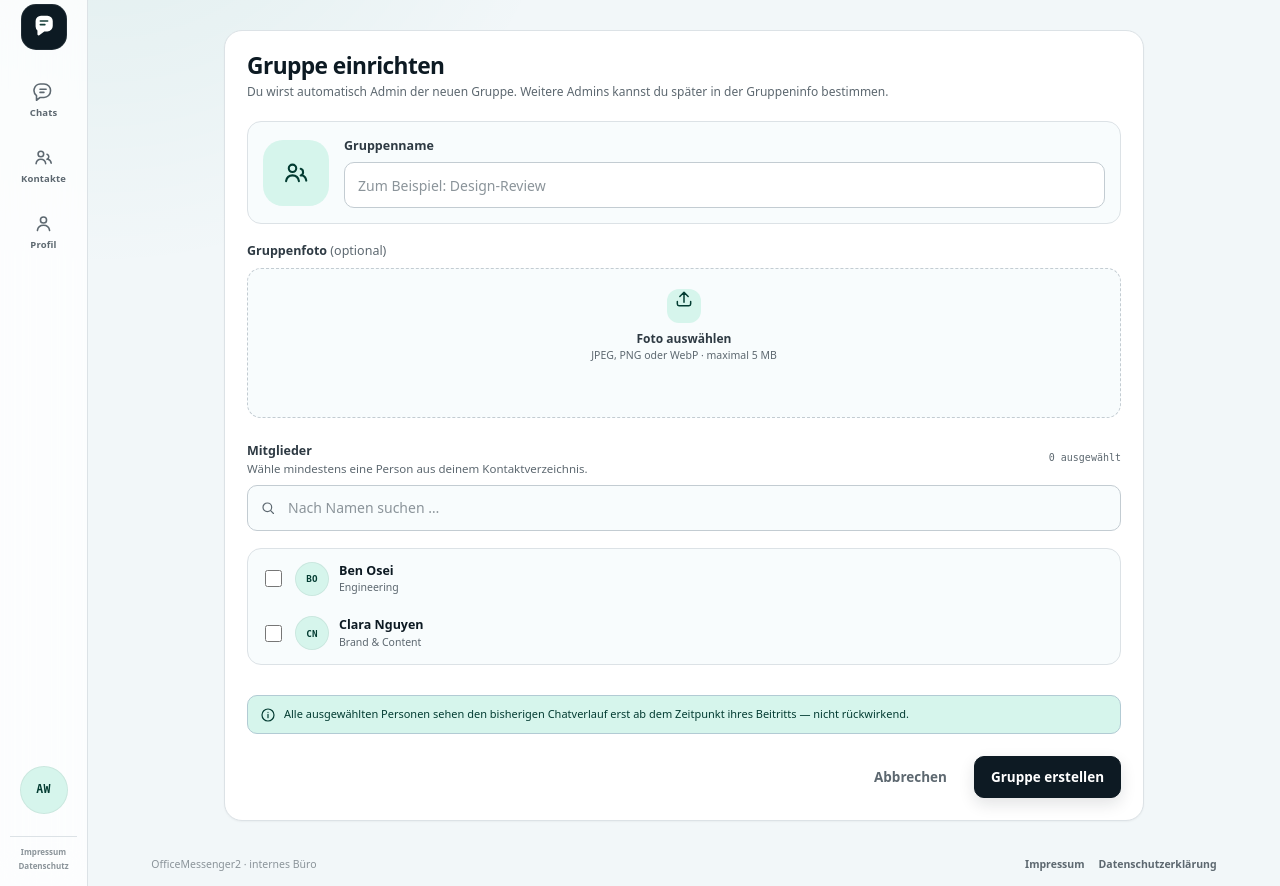
Test: CreateGroupPage › shows validation messages after an empty submit
(page scrolled)
Check: the text "Ben Osei" is shown, box [339,562,394,579]
Click the button "Gruppe erstellen": (1047, 777) [974,756,1121,798]
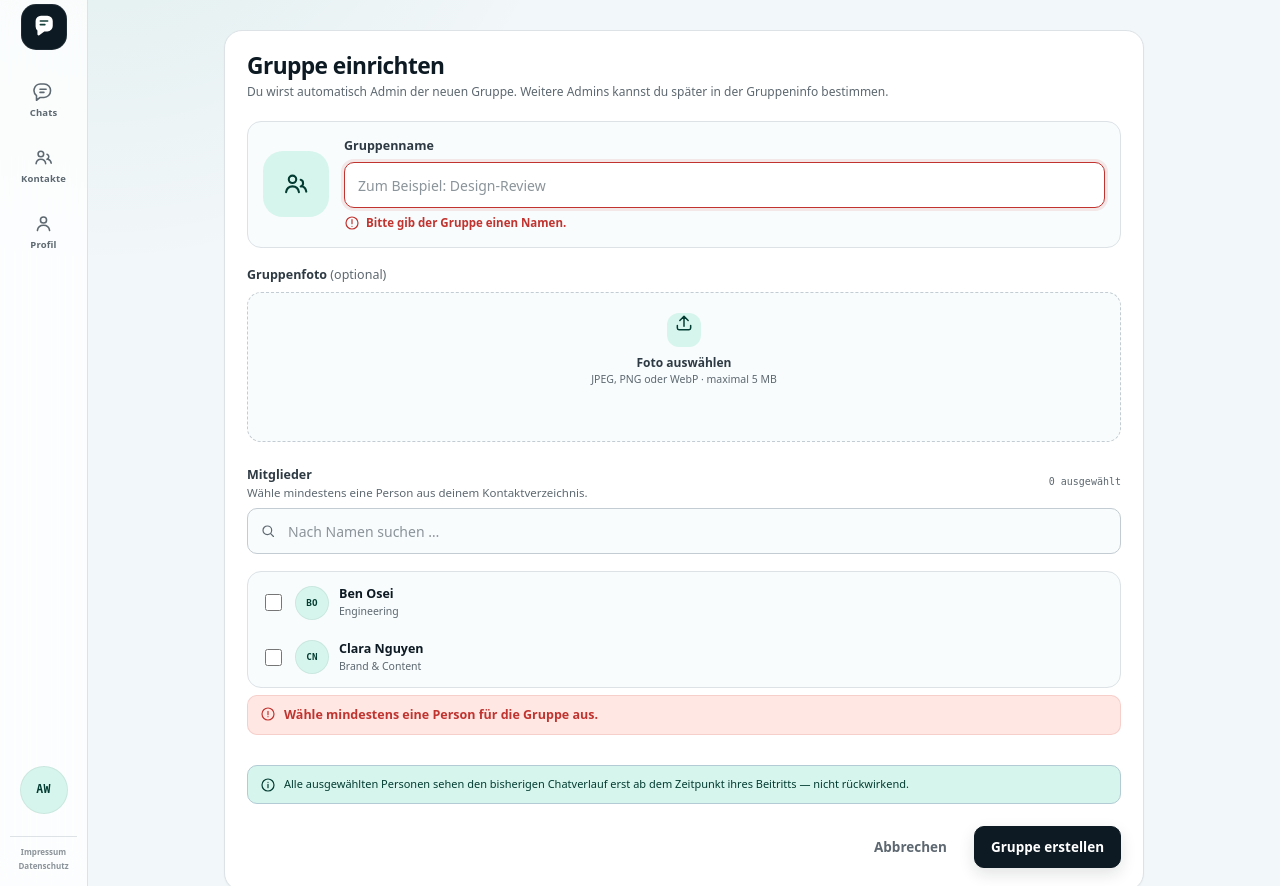
Check: the text "Bitte gib der Gruppe einen Namen." is shown, box [366,216,566,232]
Check: the text "Wähle mindestens eine Person für die Gruppe aus." is shown, box [284,706,598,724]
